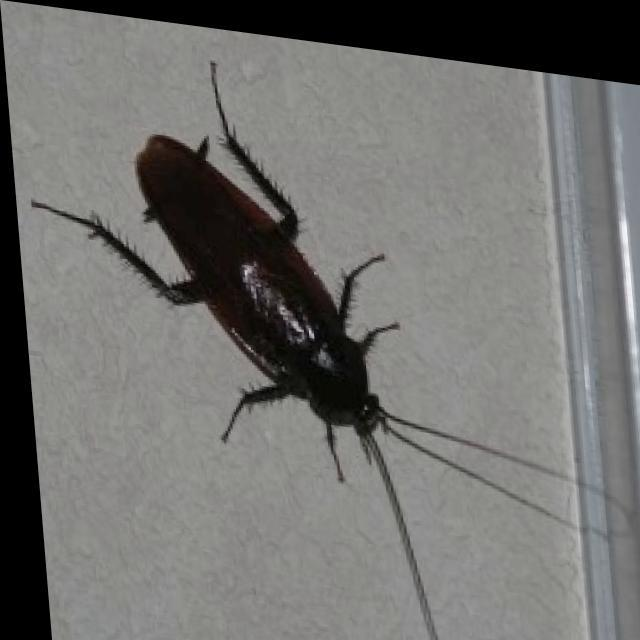cockroach: (83, 111, 423, 456)
